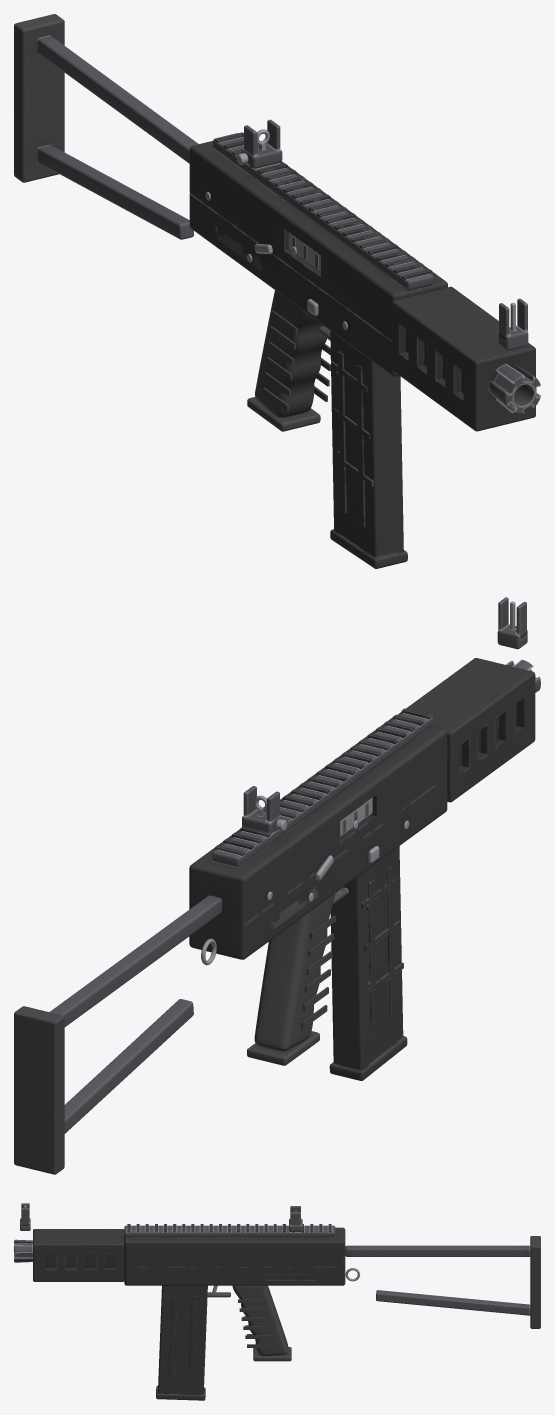
Rendered from ump45.fbx.
3 renders of one model, top to bottom at view 1: azimuth 30°, elevation 25°; view 2: azimuth 150°, elevation 25°; view 3: azimuth 270°, elevation 25°, orthographic. The views are drawn at different scales.
Visible parts, largest first — view 1: ump45; view 2: ump45; view 3: ump45.
Boxes of the visible parts, x1,y1,x2,y2 form: ump45: [14, 14, 540, 568]; ump45: [14, 597, 540, 1174]; ump45: [14, 1203, 540, 1400].
Size of the model in its own units: 0.052 by 0.2764 by 0.692.
